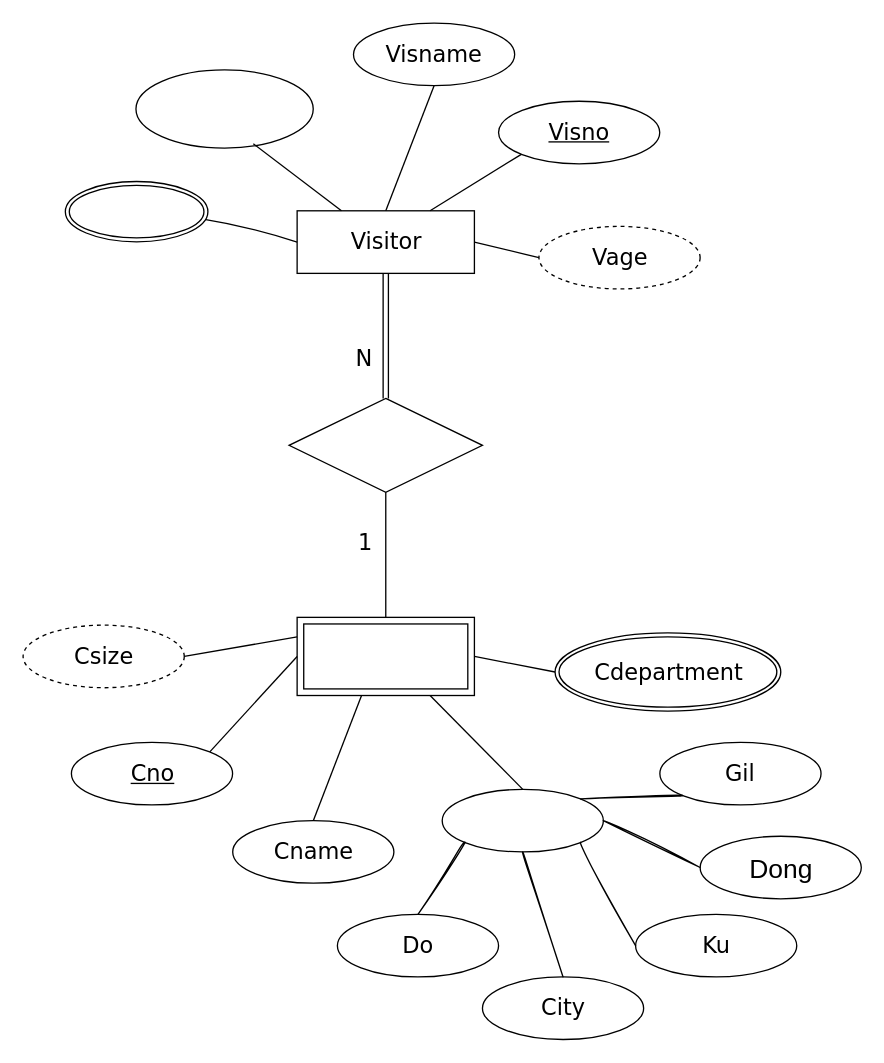
Some shapes in this 884 by 1063 pixel diagram are drawn without their labels. Here are the shapes that lost their labels. From the top down, the centre of each, then its label:
At point 224,108: "Visdivision".
At point 136,211: "Visjob".
At point 385,444: "Reserve".
At point 385,656: "Company".
At point 522,820: "CAddress".
